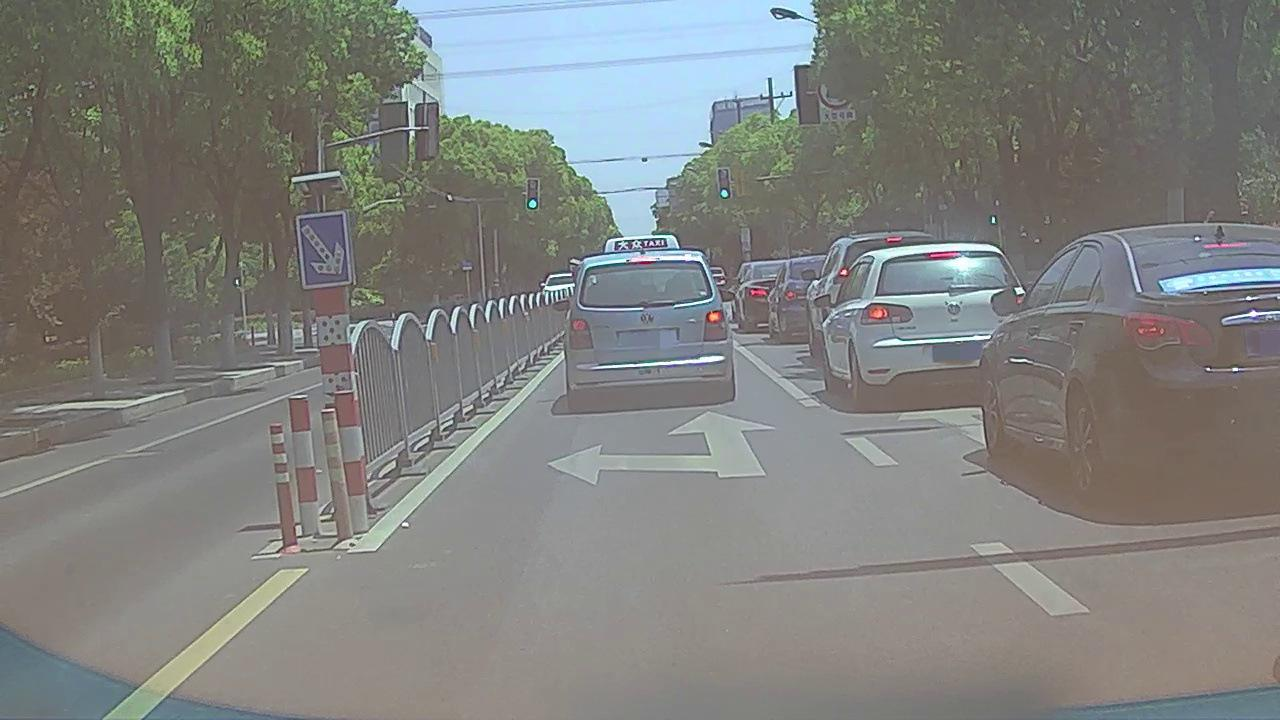traffic_light: (718, 169, 731, 199), (528, 179, 539, 209)
